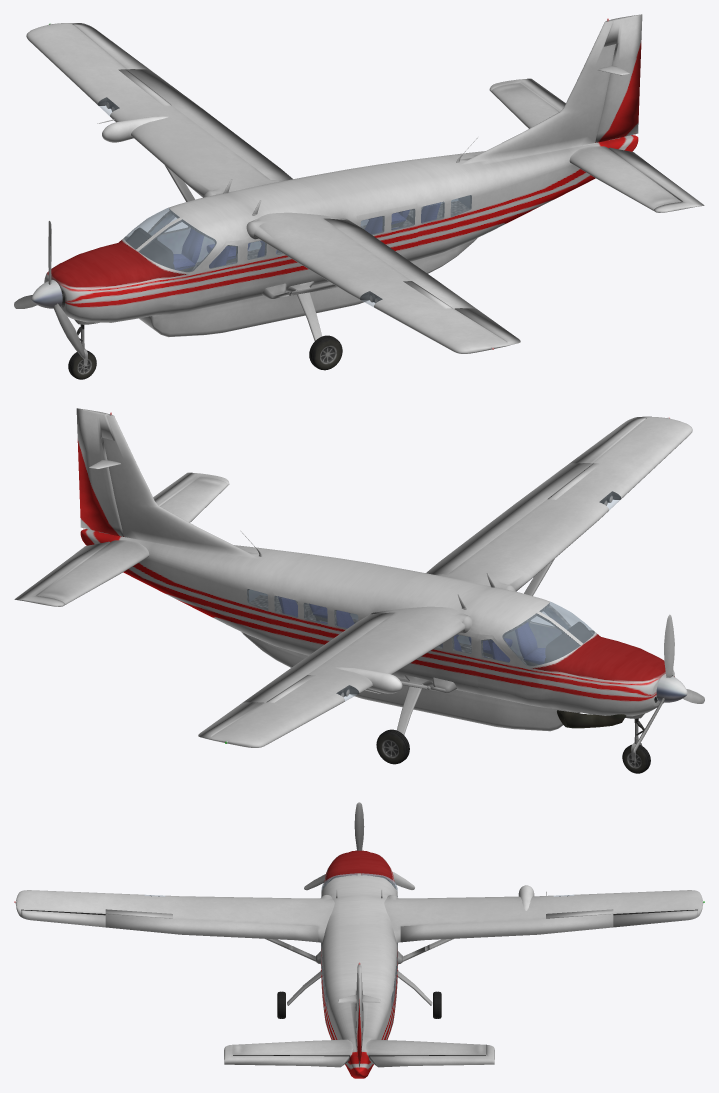
Rendered from caravan-demo.glb.
3 renders of one model, top to bottom at view 1: azimuth 30°, elevation 25°; view 2: azimuth 150°, elevation 25°; view 3: azimuth 270°, elevation 25°, orthographic. The views are drawn at different scales.
Parts seen in each view (by area): view 1: fuselage, ailes, tank.003, vitres, ailes2, intvitres, direction, voletD, voletG, profondeur, porteAG, helice (+16 smaller); view 2: fuselage, ailes, vitres, tank.003, intvitres, ailes2, direction, voletG, voletD, profondeur, porteAD, helice (+12 smaller); view 3: ailes, fuselage, voletD, voletG, ailes2, profondeur, aileronD, aileronG, helice, barres, trous, direction (+1 smaller).
Part boxes in pixels (box(x1,y1,x2,y2)): fuselage: box(44, 20, 638, 322); ailes: box(26, 23, 519, 353); tank.003: box(139, 238, 477, 337); vitres: box(98, 97, 471, 306); ailes2: box(491, 83, 681, 210); intvitres: box(124, 195, 471, 271); direction: box(595, 14, 642, 142); voletD: box(127, 69, 292, 180); voletG: box(324, 218, 475, 308); profondeur: box(489, 78, 704, 212); porteAG: box(204, 240, 241, 300); helice: box(14, 221, 85, 358); fuselage: box(80, 414, 674, 716); ailes: box(199, 416, 692, 747); vitres: box(247, 491, 620, 701); tank.003: box(241, 632, 580, 731); intvitres: box(247, 589, 594, 666); ailes2: box(37, 477, 227, 604); direction: box(76, 408, 123, 536); voletG: box(426, 463, 591, 574); voletD: box(243, 612, 394, 702); profondeur: box(14, 472, 229, 606); porteAD: box(477, 634, 514, 694); helice: box(633, 614, 704, 752); ailes: box(15, 890, 703, 942); fuselage: box(321, 850, 397, 1078); voletD: box(400, 914, 613, 942); voletG: box(105, 914, 318, 942); ailes2: box(233, 1039, 485, 1056); profondeur: box(224, 1044, 494, 1067); aileronD: box(613, 910, 698, 927); aileronG: box(20, 910, 105, 927); helice: box(304, 802, 414, 890); barres: box(265, 938, 453, 964); trous: box(21, 909, 697, 1060); direction: box(356, 966, 362, 1068).
Size of the model in its own units: 12.6 by 4.58 by 15.85.
Materials: 32 (29 with a texture image).
